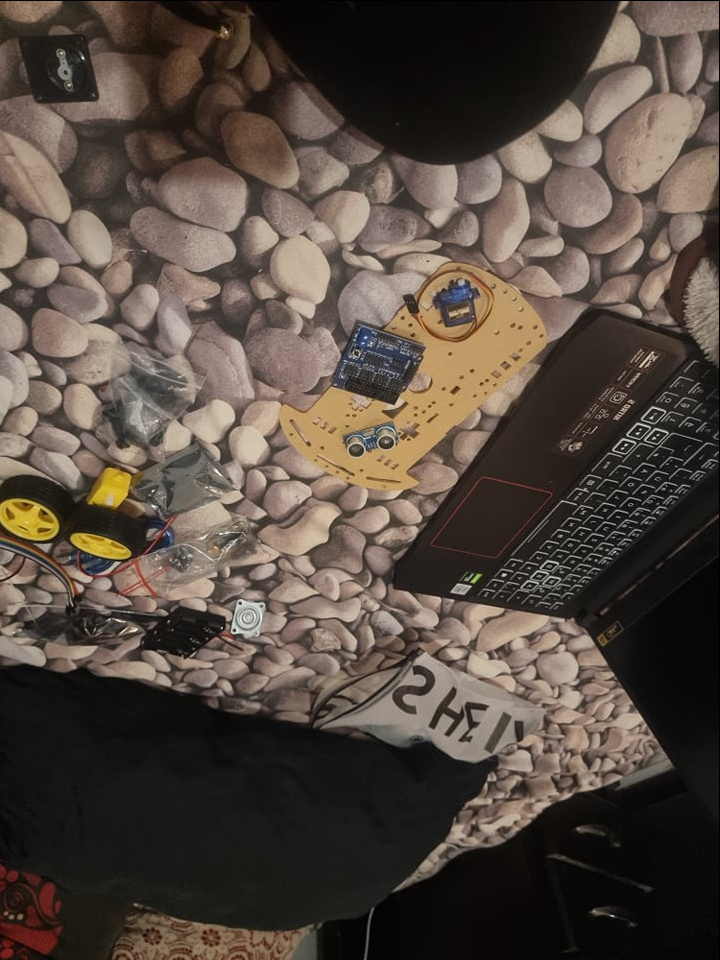5V EXPANSION: (330, 320, 427, 404)
BATTERY BOX: (146, 605, 227, 664)
SENSOR: (343, 423, 400, 459)
